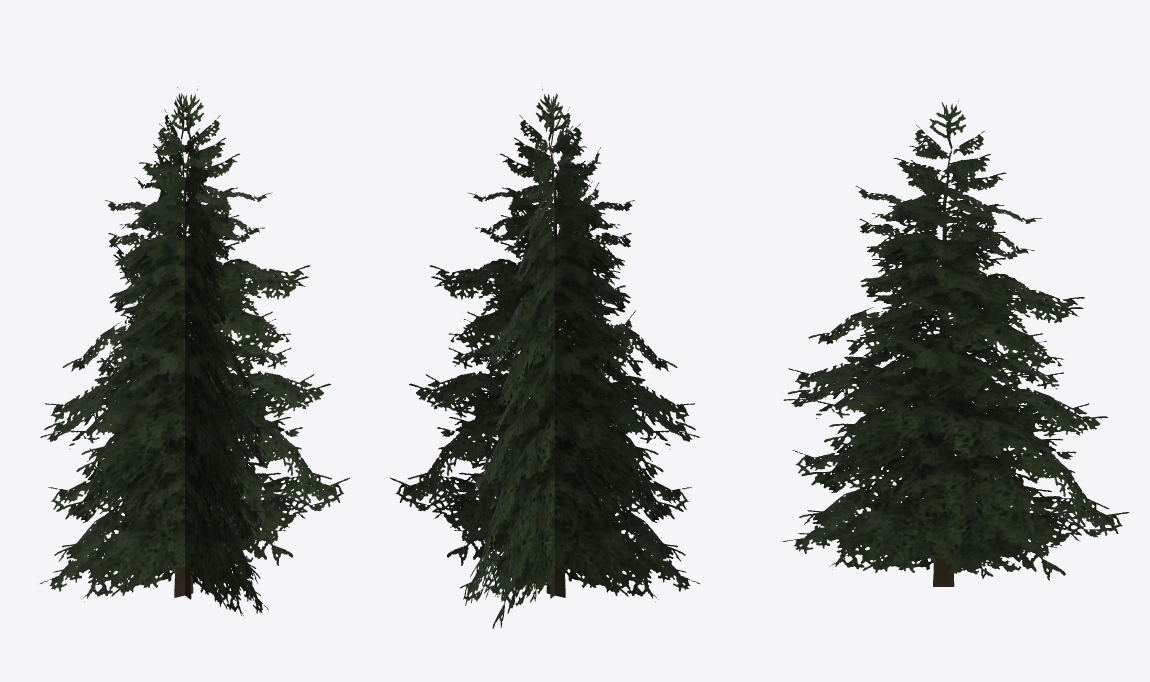
The model's file is baum_fichte_5_lod2.glb.
3 renders of one model, left to right at view 1: azimuth 30°, elevation 25°; view 2: azimuth 150°, elevation 25°; view 3: azimuth 270°, elevation 25°, orthographic. The views are drawn at different scales.
Visible parts, largest first — view 1: Billboard; view 2: Billboard; view 3: Billboard.
Boxes of the visible parts, x1,y1,x2,y2 form: Billboard: (40, 86, 349, 616); Billboard: (390, 86, 699, 628); Billboard: (782, 98, 1129, 586).
Size of the model in its own units: 8.43 by 12 by 8.43.
1 material, 1 textured.
